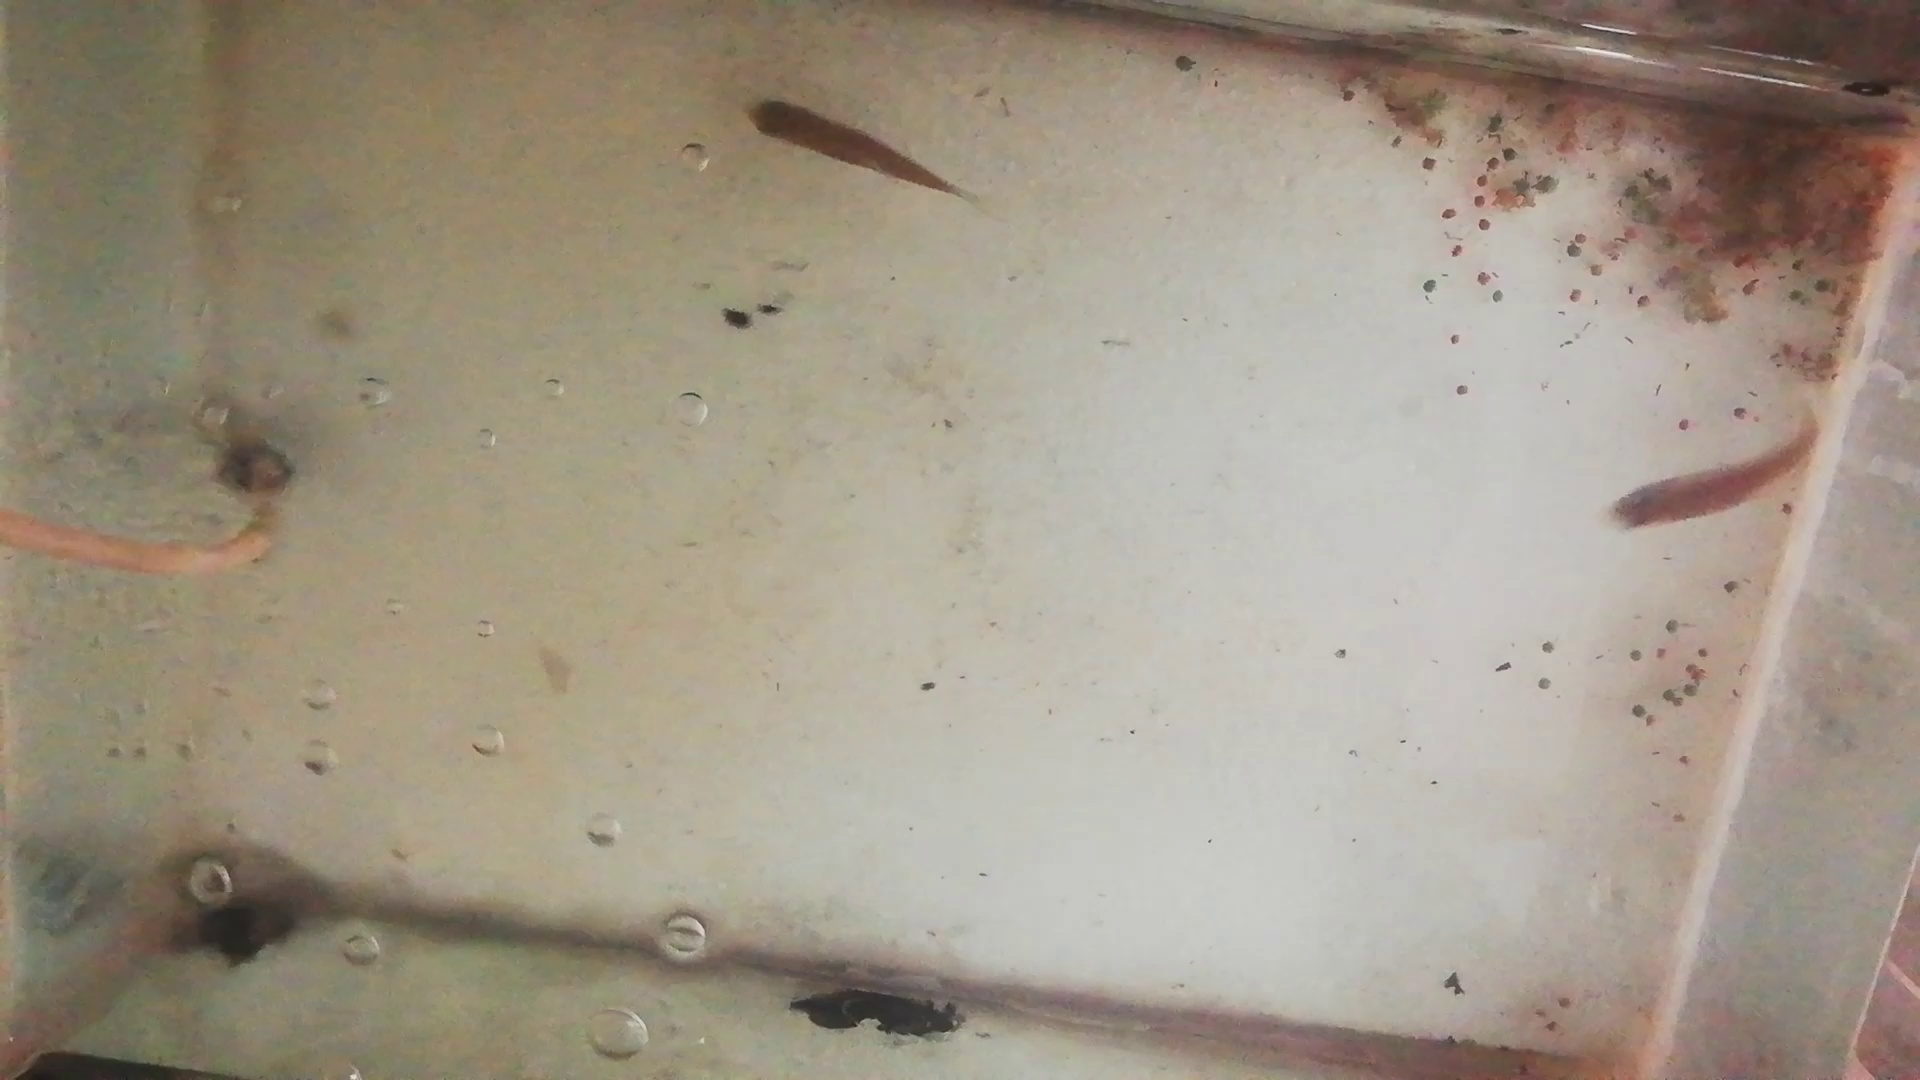fish: (1611, 429, 1818, 526), (745, 100, 952, 196)
